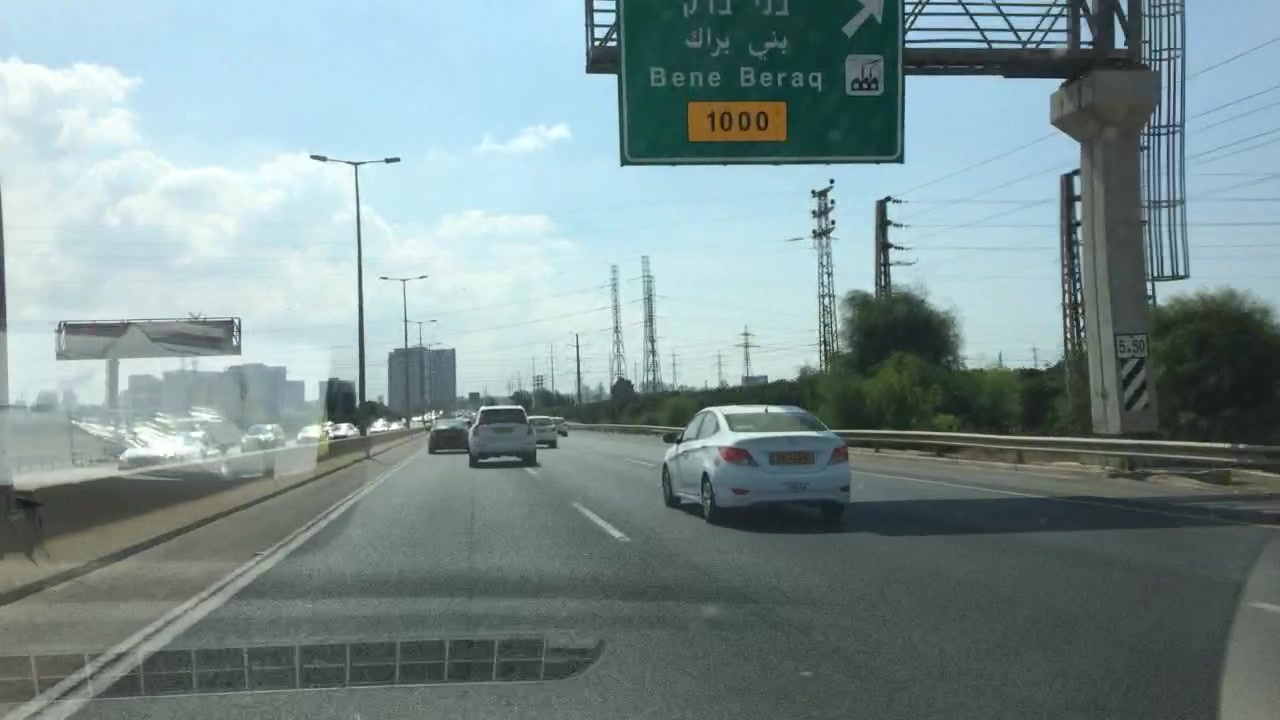licence: (763, 449, 817, 468)
